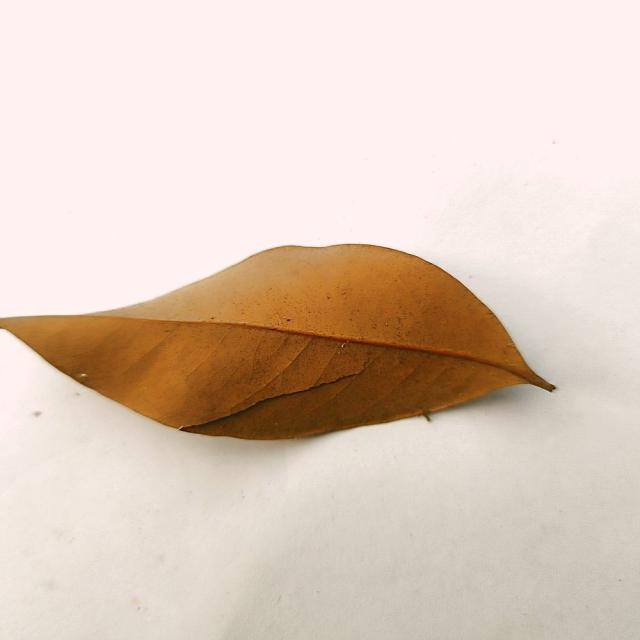Dry_Leaf-Lychee: (1, 244, 556, 444)
